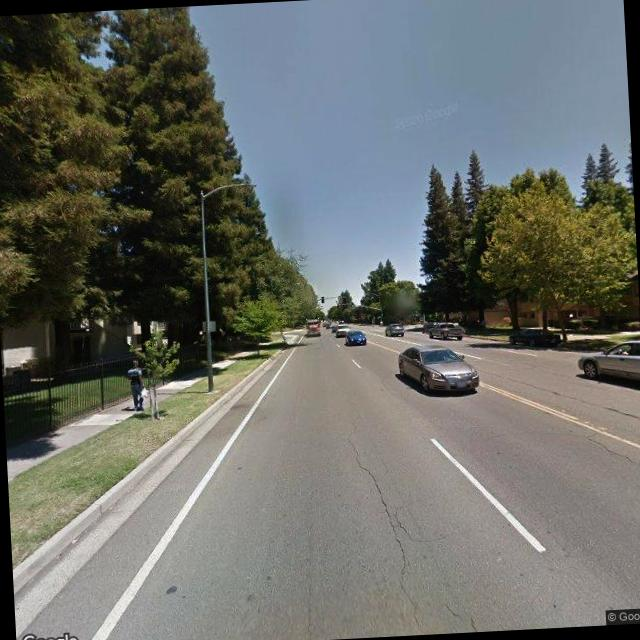pothole: (347, 428, 428, 630), (581, 427, 640, 484)
